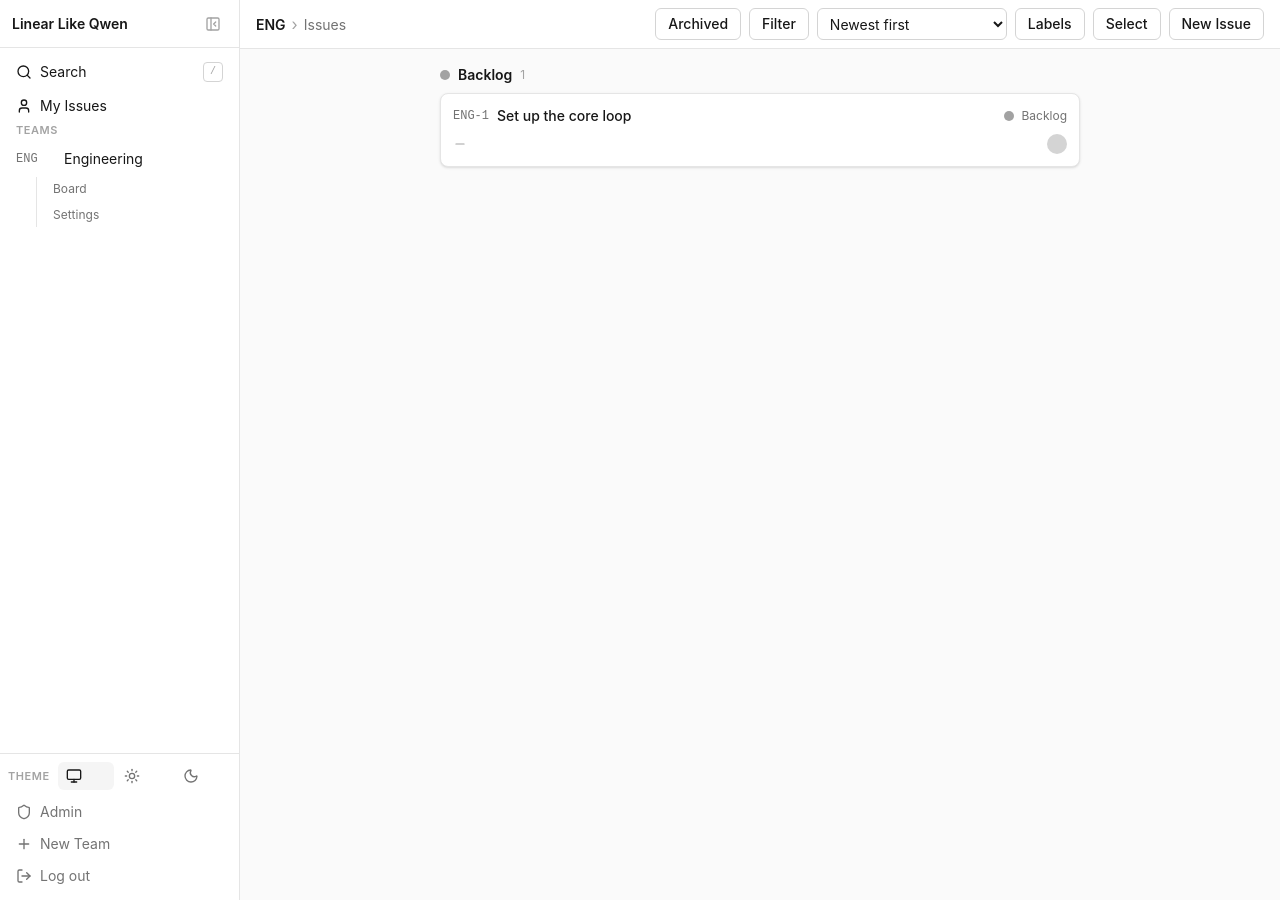
Test: TeamIssues › lists archived Issues when the Archived toggle is on
Expected: the text "ENG-1" is shown, [453,108,489,124]
Expected: the text "ENG-2" is not shown
Click the button "Archived". click: (698, 24)
box: [655,8,741,40]
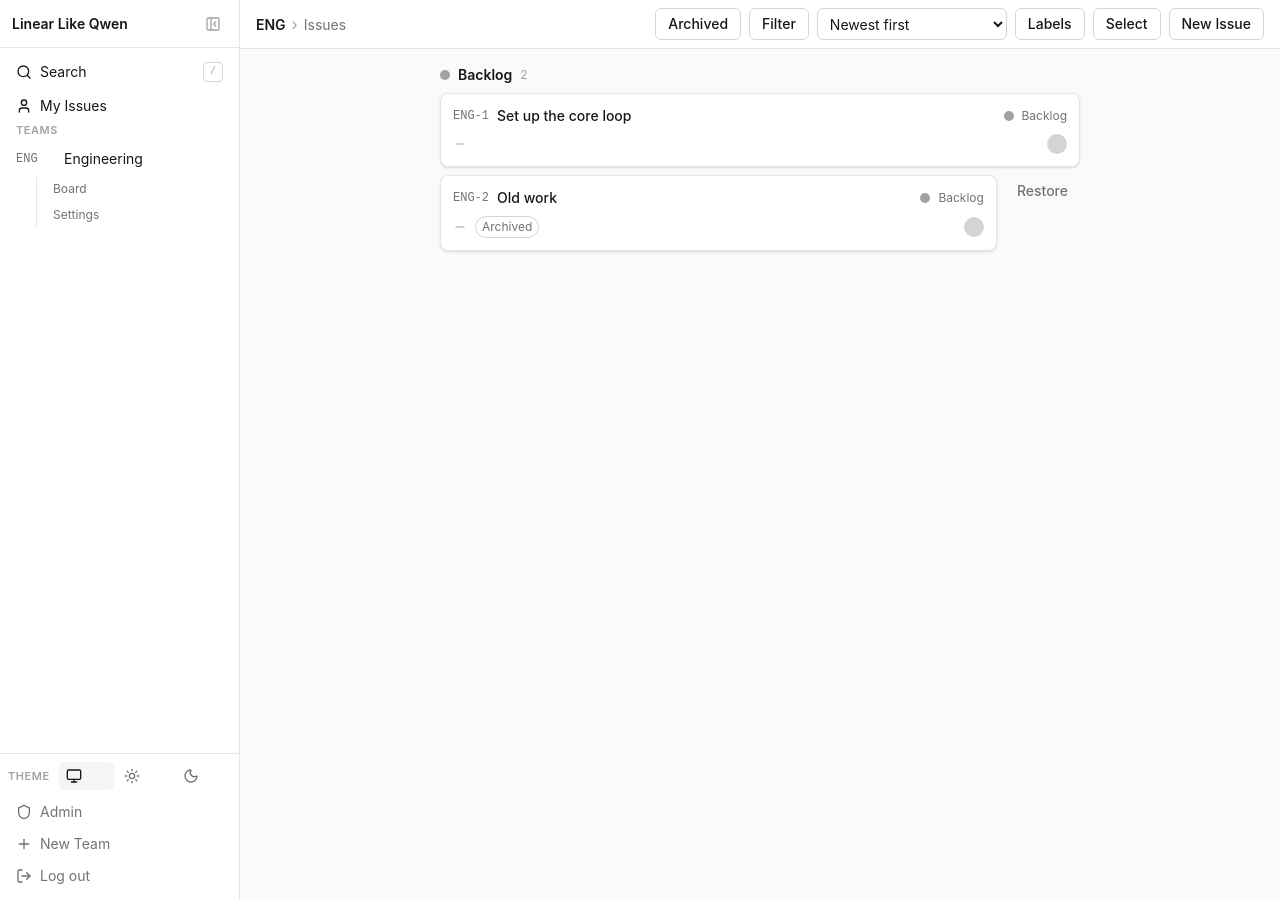
Result: the text "ENG-2" is shown at [453,190,489,206]
Result: the number of buttons "Archived" is 2 at [655,8,741,40]; [475,216,539,238]
